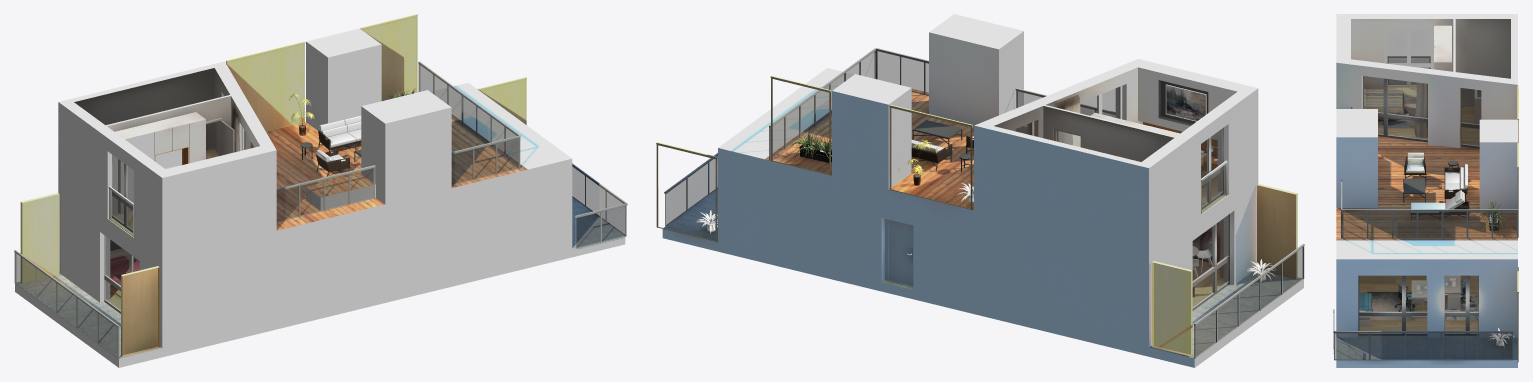
File: mokotow_nad_skarpa_52.glb
3 renders of one model, left to right at view 1: azimuth 30°, elevation 25°; view 2: azimuth 150°, elevation 25°; view 3: azimuth 270°, elevation 25°, orthographic. The views are drawn at different scales.
Parts seen in each view (by area): view 1: SCIANY ZEWN--, Layer:SCIANY_KONSTRUKCYJNE_3D--, TARAS_2--, Layer:BARIERKI_DREWNO_3D--, Layer:Glass_3D_2--, Layer:Glass_3D--, PRZEGRODY--, BALKON--, SZAFA SYPIALNIA 4 DRZ--, Layer:BARIERKI_SZKLO_3D_2--, Box02--, Layer:BARIERKI_SZKLO_3D-- (+4 smaller); view 2: SCIANY ZEWN--, Layer:SCIANY_KONSTRUKCYJNE_3D--, TARAS_2--, PRZEGRODY--, Layer:Glass_3D--, Layer:Glass_3D_2--, BALKON--, SYPIALNIA SCIANA--, Layer:BARIERKI_DREWNO_3D--, Layer:PROGI_DRZWI_3D--, Layer:BARIERKI_SZKLO_3D_2--, Box02-- (+5 smaller); view 3: SCIANY ZEWN--, Layer:SCIANY_KONSTRUKCYJNE_3D--, TARAS_2--, Layer:Glass_3D_2--, Layer:Glass_3D--, BALKON--, Box02--, PODLOGA_2--, Layer:OKNA_3D_2--, Layer:OKNA_3D--, Layer:BARIERKI_SZKLO_3D_2--, Layer:BARIERKI_SZKLO_3D-- (+14 smaller).
Part boxes in pixels (x1,y1,x2,y2): SCIANY ZEWN--: (58,61,625,367); Layer:SCIANY_KONSTRUKCYJNE_3D--: (15,28,451,367); TARAS_2--: (250,82,571,230); Layer:BARIERKI_DREWNO_3D--: (226,14,526,131); Layer:Glass_3D_2--: (110,65,518,234); Layer:Glass_3D--: (16,167,625,356); PRZEGRODY--: (20,193,159,356); BALKON--: (16,197,624,358); SZAFA SYPIALNIA 4 DRZ--: (115,112,205,213); Layer:BARIERKI_SZKLO_3D_2--: (108,61,520,237); Box02--: (300,115,361,176); Layer:BARIERKI_SZKLO_3D--: (14,163,627,358); SCIANY ZEWN--: (662,59,1258,367); Layer:SCIANY_KONSTRUKCYJNE_3D--: (832,14,1303,367); TARAS_2--: (718,68,973,210); PRZEGRODY--: (1152,184,1297,356); Layer:Glass_3D--: (666,156,1302,356); Layer:Glass_3D_2--: (773,51,1225,211); BALKON--: (664,188,1302,358); SYPIALNIA SCIANA--: (1138,65,1240,139); Layer:BARIERKI_DREWNO_3D--: (656,76,972,241); Layer:PROGI_DRZWI_3D--: (885,218,913,286); Layer:BARIERKI_SZKLO_3D_2--: (769,48,1227,214); Box02--: (911,120,973,172); SCIANY ZEWN--: (1336,14,1517,367); Layer:SCIANY_KONSTRUKCYJNE_3D--: (1336,19,1517,281); TARAS_2--: (1336,136,1517,259); Layer:Glass_3D_2--: (1343,30,1516,237); Layer:Glass_3D--: (1335,276,1511,359); BALKON--: (1336,335,1517,359); Box02--: (1403,152,1469,220); PODLOGA_2--: (1359,275,1478,330); Layer:OKNA_3D_2--: (1363,30,1479,148); Layer:OKNA_3D--: (1358,275,1478,335); Layer:BARIERKI_SZKLO_3D_2--: (1341,56,1517,238); Layer:BARIERKI_SZKLO_3D--: (1333,309,1513,360).
Size of the model in its own units: 17.94 by 6 by 6.44.
100 materials, 99 textured.
